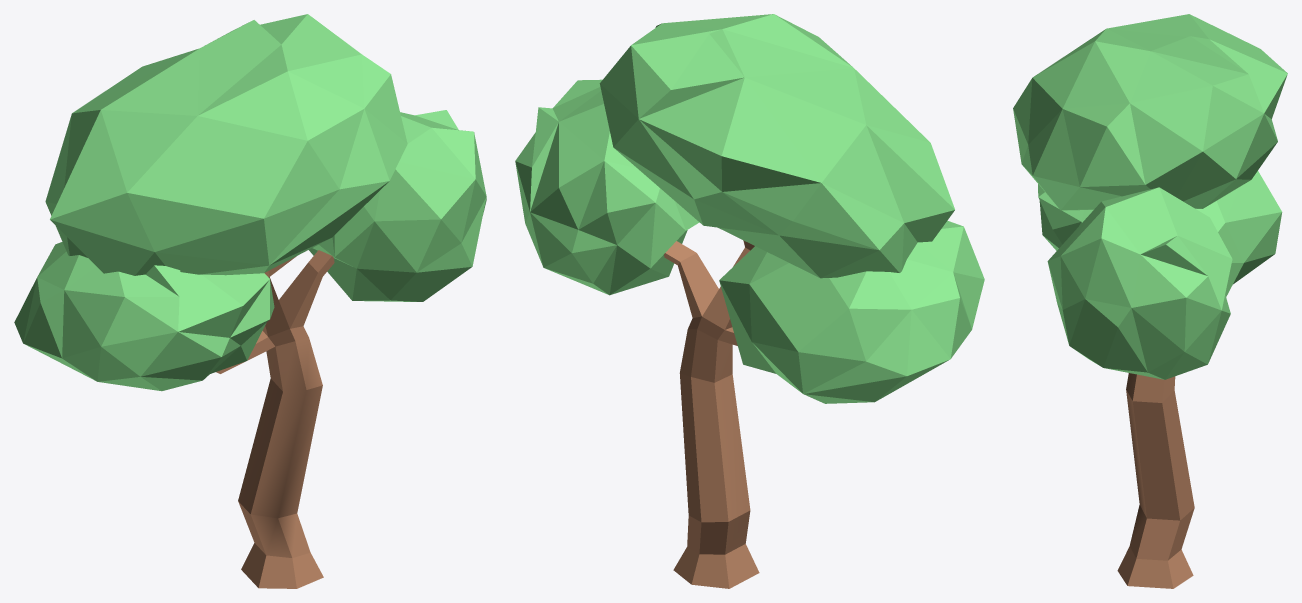
The model's file is arbre1_lowpoly.fbx.
3 views of the same model, side by side, from view 1: azimuth 30°, elevation 25°; view 2: azimuth 150°, elevation 25°; view 3: azimuth 270°, elevation 25° (orthographic). The views are drawn at different scales.
Visible parts, largest first — view 1: Icosphere.001, Icosphere.002, Icosphere, Cube.005; view 2: Icosphere.001, Icosphere.002, Icosphere, Cube.005; view 3: Icosphere.001, Icosphere, Cube.005, Icosphere.002.
Boxes of the visible parts, x1,y1,x2,y2 form: Icosphere.001: [45, 14, 407, 275]; Icosphere.002: [14, 242, 274, 391]; Icosphere: [309, 110, 486, 301]; Cube.005: [216, 250, 334, 588]; Icosphere.001: [599, 14, 954, 278]; Icosphere.002: [719, 220, 984, 403]; Icosphere: [515, 79, 699, 295]; Cube.005: [664, 240, 759, 588]; Icosphere.001: [1013, 14, 1287, 210]; Icosphere: [1047, 187, 1232, 379]; Cube.005: [1117, 373, 1194, 588]; Icosphere.002: [1038, 171, 1282, 296].
Size of the model in its own units: 11.08 by 6.28 by 13.4.
